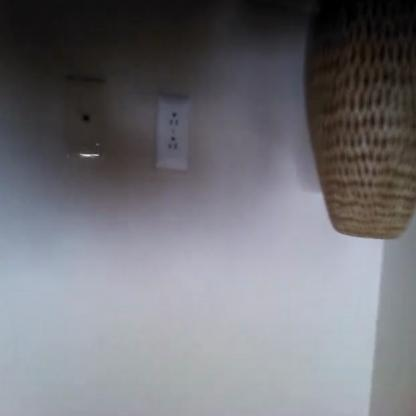OUTLET: (157, 100, 188, 171)
